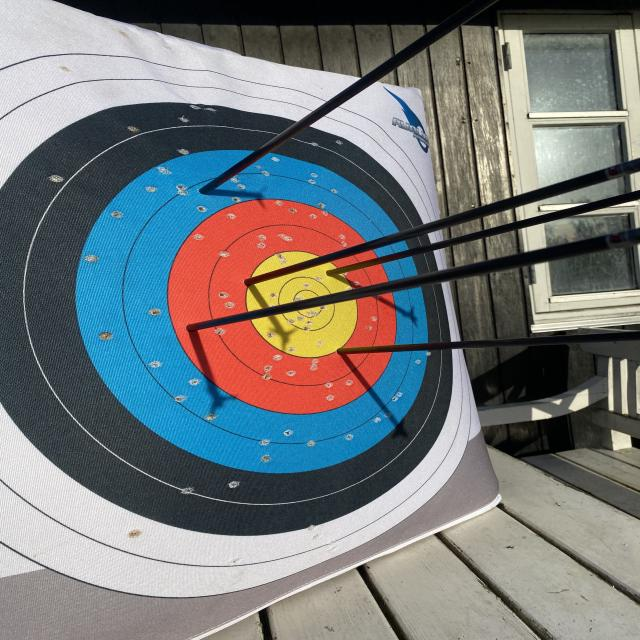Arrow_Blue: (193, 176, 219, 207)
Arrow_Red: (170, 313, 217, 344), (333, 336, 359, 364), (235, 270, 262, 295)
Arrow_Yellow: (322, 263, 348, 283)
